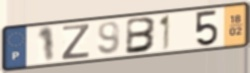1: (36, 25, 56, 64), (158, 12, 174, 52)
5: (194, 8, 220, 48)
9: (96, 21, 122, 56)
B: (124, 16, 158, 56)
Z: (60, 22, 91, 61)
